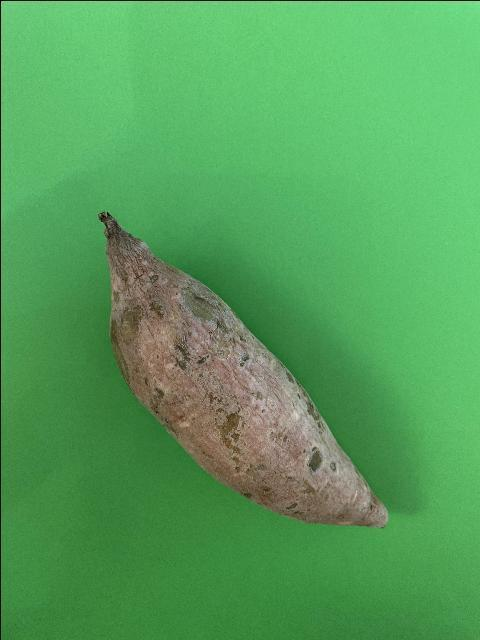sweetpotato: (95, 210, 389, 528)
